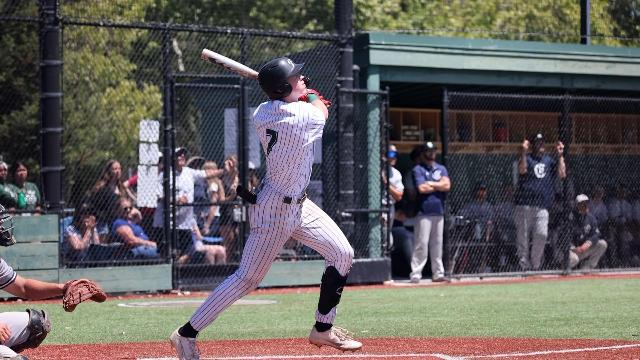baseball bat: (199, 49, 257, 80)
